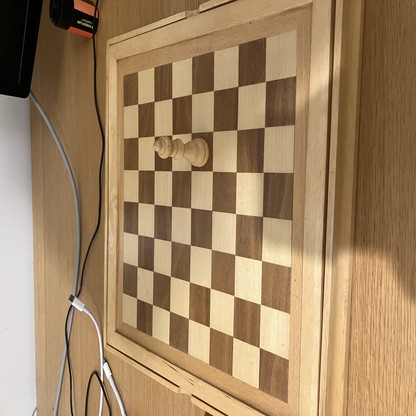queen_white: (154, 136, 208, 167)
